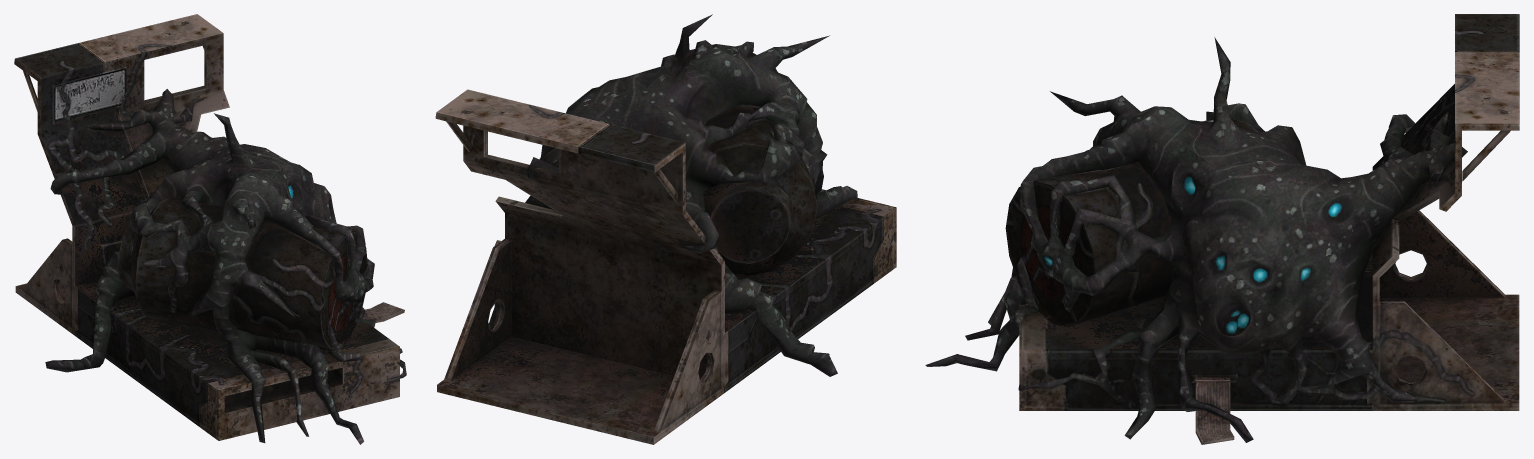
The model's file is chun_vivariumslice01.dae.
3 views of the same model, side by side, from view 1: azimuth 30°, elevation 25°; view 2: azimuth 150°, elevation 25°; view 3: azimuth 270°, elevation 25° (orthographic). The views are drawn at different scales.
Parts seen in each view (by area): view 1: chun_vivariumslice2; view 2: chun_vivariumslice2; view 3: chun_vivariumslice2.
Part boxes in pixels (bbox=[...]): chun_vivariumslice2: bbox=[14, 14, 406, 444]; chun_vivariumslice2: bbox=[435, 14, 896, 444]; chun_vivariumslice2: bbox=[925, 14, 1519, 444].
Size of the model in its own units: 37.21 by 28.19 by 48.39.
